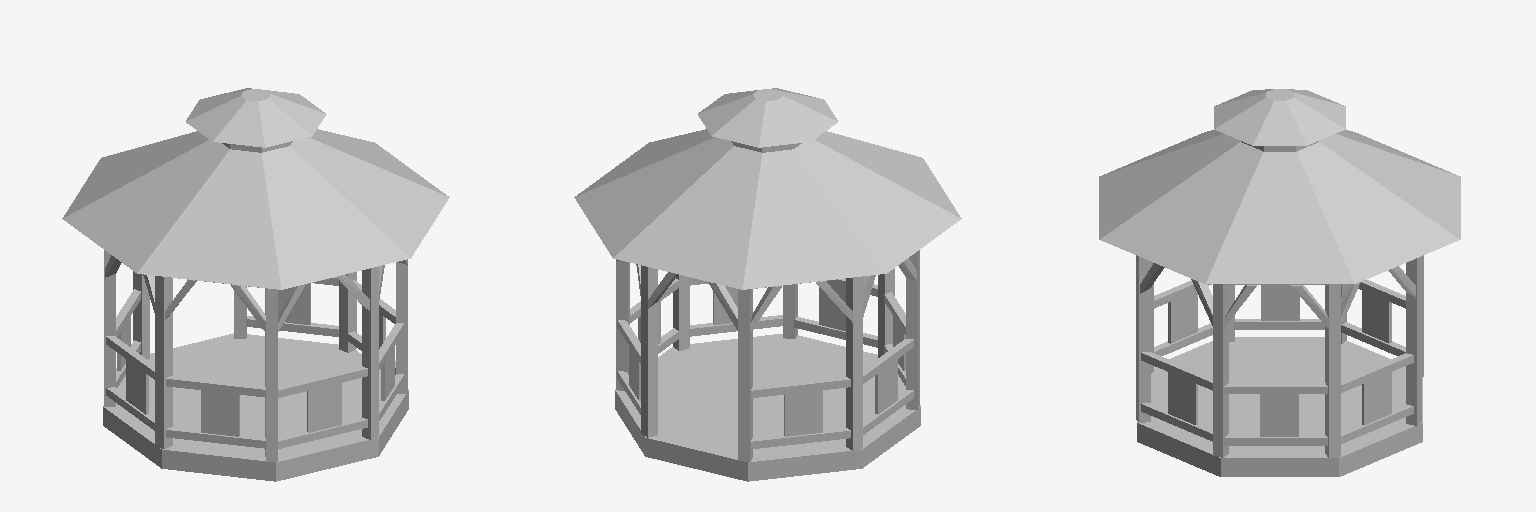
File: gazerbo.obj
3 views of the same model, side by side, from view 1: azimuth 30°, elevation 25°; view 2: azimuth 150°, elevation 25°; view 3: azimuth 270°, elevation 25° (orthographic).
Parts seen in each view (by area): view 1: gazebo; view 2: gazebo; view 3: gazebo.
Boxes of the visible parts, box(x1,y1,x2,y2) form: gazebo: box(62, 88, 449, 481); gazebo: box(574, 88, 961, 481); gazebo: box(1099, 89, 1460, 476).
Size of the model in its own units: 6.57 by 6.46 by 6.57.